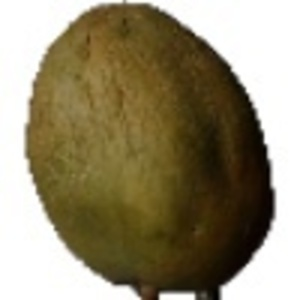mamão: (18, 3, 284, 293)
